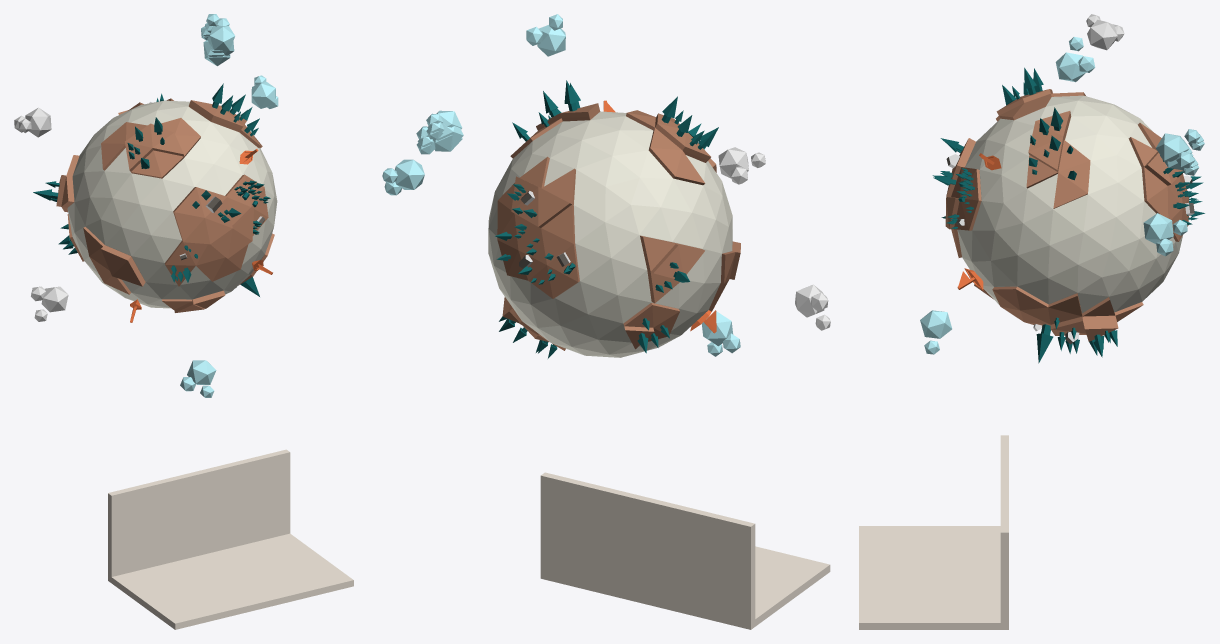
Rendered from globetest4.glb.
The picture shows the model from 3 angles, left to right: view 1: azimuth 30°, elevation 25°; view 2: azimuth 150°, elevation 25°; view 3: azimuth 270°, elevation 25°; orthographic projection. The views are drawn at different scales.
Parts seen in each view (by area): view 1: Plane.001, Icosphere.001, Icosphere, Plane.079, Icosphere.008, Icosphere.007, Icosphere.003, Icosphere.020, Icosphere.014, Icosphere.011, Plane.002; view 2: Icosphere.001, Plane.001, Icosphere, Plane.079, Icosphere.020, Icosphere.003, Icosphere.007, Icosphere.008, Icosphere.011; view 3: Icosphere.001, Plane.001, Icosphere, Plane.079, Icosphere.020, Icosphere.003, Icosphere.007, Icosphere.008, Icosphere.011, Plane.002, Plane.
Part boxes in pixels (box(x1,y1,x2,y2)): Plane.001: box(108, 449, 353, 629); Icosphere.001: box(67, 100, 277, 308); Icosphere: box(56, 98, 274, 312); Plane.079: box(33, 83, 270, 296); Icosphere.008: box(180, 360, 216, 397); Icosphere.007: box(206, 14, 234, 50); Icosphere.003: box(251, 75, 278, 108); Icosphere.020: box(201, 23, 234, 66); Icosphere.014: box(41, 286, 68, 312); Icosphere.011: box(25, 107, 51, 137); Plane.002: box(130, 149, 272, 322); Icosphere.001: box(488, 111, 732, 357); Plane.001: box(540, 472, 830, 629); Icosphere: box(497, 103, 740, 350); Plane.079: box(495, 80, 718, 358); Icosphere.020: box(416, 110, 463, 154); Icosphere.003: box(382, 159, 424, 195); Icosphere.007: box(526, 14, 565, 56); Icosphere.008: box(701, 311, 740, 356); Icosphere.011: box(718, 147, 748, 178); Icosphere.001: box(957, 95, 1183, 313); Plane.001: box(859, 435, 1008, 629); Icosphere: box(945, 89, 1188, 341); Plane.079: box(932, 67, 1204, 363); Icosphere.020: box(1156, 129, 1204, 175); Icosphere.003: box(1143, 213, 1187, 256); Icosphere.007: box(1055, 36, 1095, 82); Icosphere.008: box(920, 310, 952, 354); Icosphere.011: box(1087, 19, 1117, 50); Plane.002: box(957, 153, 1001, 290); Plane: box(946, 154, 1194, 344).
Bounding box in the file's own units: 3.49 × 5.47 × 3.02.
